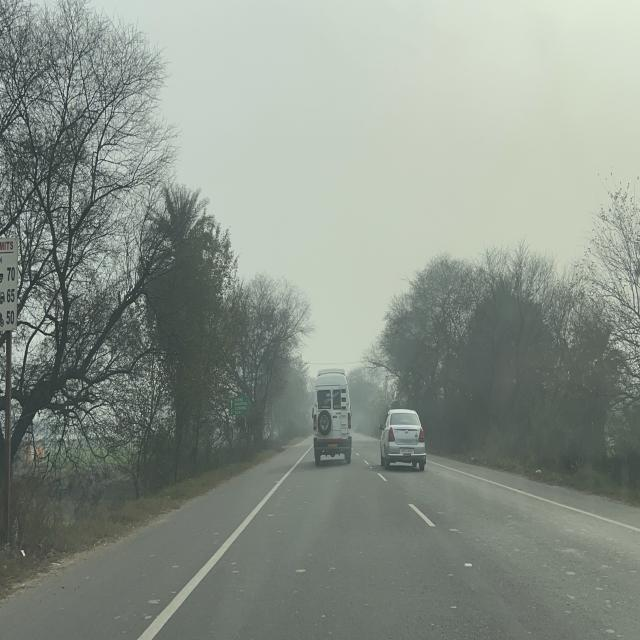GENERAL: (229, 396, 250, 416)
